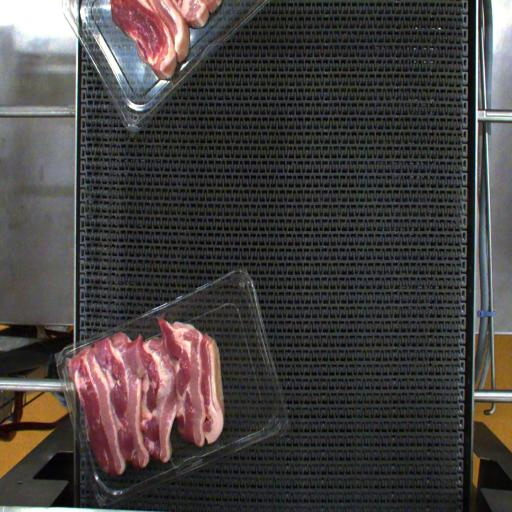packaging-error: (55, 320, 132, 363), (151, 300, 168, 326)
